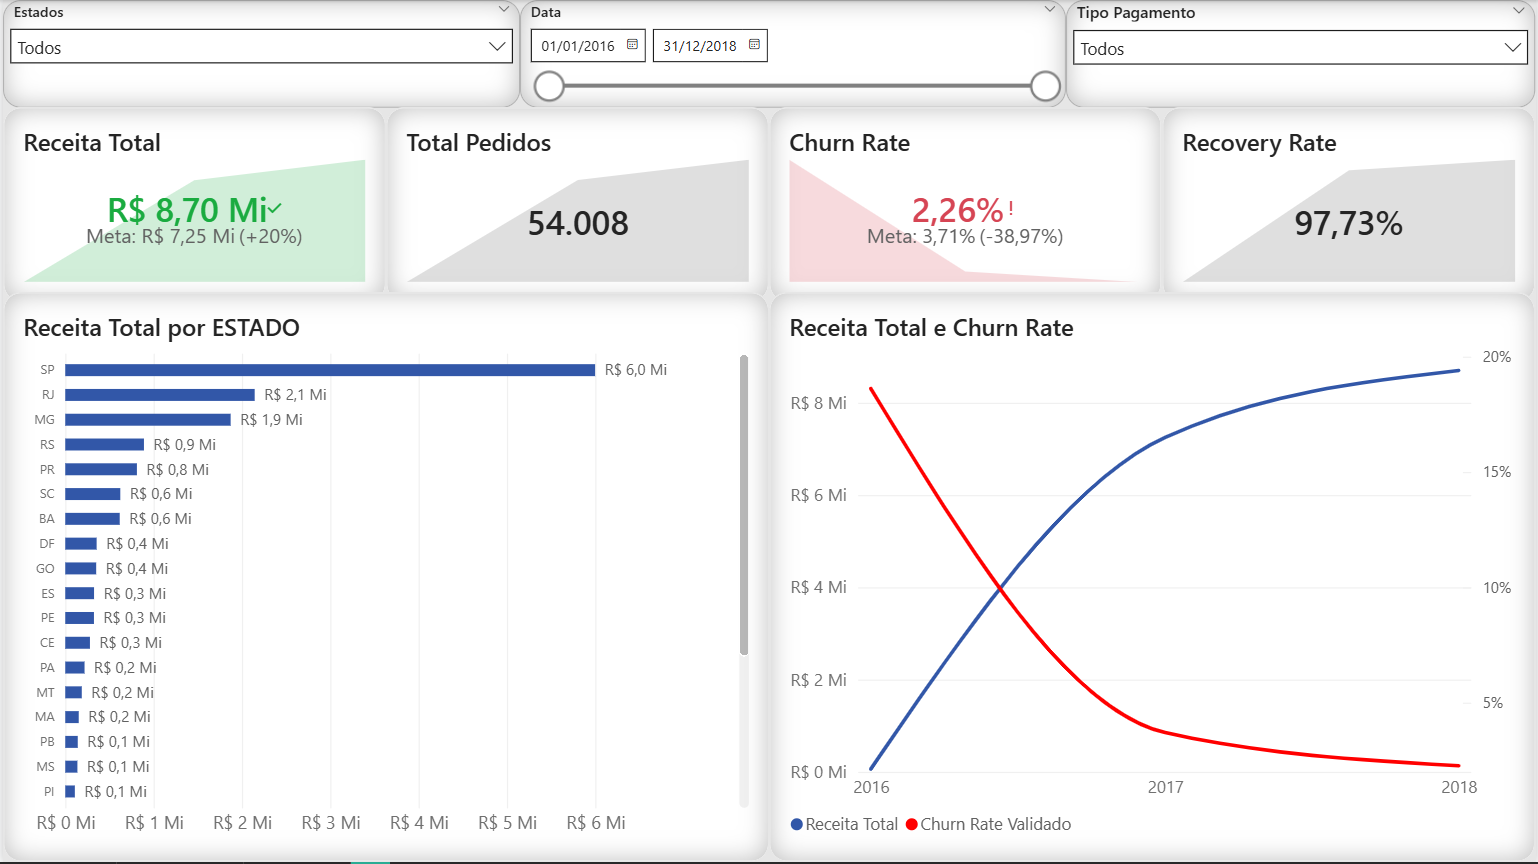

The dashboard page shown, as its layout file describes it:
{"tool":"powerbi","page":{"name":"Visão Executiva","canvas":[1280,720],"ordinal":0},"visuals":[{"type":"slicer","fields":{"Values":["dCalendario.Date"]},"box":[431.8,0,456.1,89.8],"z":0},{"type":"slicer","fields":{"Values":["dLocalidade.ESTADO"]},"box":[0,0,431.8,89.8],"z":1000},{"type":"slicer","fields":{"Values":["dPagamento.TIPO_PAGAMENTO"]},"box":[887.9,0,392.3,89.8],"z":2000},{"type":"kpi","title":"Receita Total","fields":{"Indicator":["_Medidas.Receita Total"],"Goal":["_Medidas.Receita Ano Anterior"],"TrendLine":["dCalendario.Date.Variation.Hierarquia de datas.Ano"]},"box":[0,89.8,319.6,163.4],"z":3000},{"type":"kpi","title":"Total Pedidos","fields":{"TrendLine":["dCalendario.Date.Variation.Hierarquia de datas.Ano"],"Indicator":["_Medidas.Total Pedidos"]},"box":[319.6,89.8,320.5,163.4],"z":4000},{"type":"kpi","title":"Churn Rate","fields":{"Indicator":["_Medidas.Churn Rate Validado"],"Goal":["_Medidas.Churn Rate Ano Anterior"],"TrendLine":["dCalendario.Date.Variation.Hierarquia de datas.Ano"]},"box":[640.1,89.8,327.7,163.4],"z":5000},{"type":"kpi","title":"Recovery Rate","fields":{"Indicator":["_Medidas.Recovery Rate"],"TrendLine":["dCalendario.Date.Variation.Hierarquia de datas.Ano"]},"box":[967.8,89.8,312.4,163.4],"z":6000},{"type":"clusteredBarChart","fields":{"Category":["dLocalidade.ESTADO"],"Y":["_Medidas.Receita Total"]},"box":[0,244.2,640.1,475.8],"z":7000},{"type":"lineChart","title":"Receita Total e Churn Rate ","fields":{"Category":["dCalendario.Date.Variation.Hierarquia de datas.Ano"],"Y":["_Medidas.Receita Total"],"Y2":["_Medidas.Churn Rate Validado"]},"box":[640.1,244.2,640.1,475.8],"z":8000}]}

Visuals, with their boxes in screenshot pixels (x1, y1, x2, y2), scaled from the page's 1280x720 canvas onto the 1538x864 screenshot:
slicer - dCalendario.Date: [519, 0, 1067, 108]
slicer - dLocalidade.ESTADO: [0, 0, 519, 108]
slicer - dPagamento.TIPO_PAGAMENTO: [1067, 0, 1537, 108]
"Receita Total" kpi: [0, 108, 384, 304]
"Total Pedidos" kpi: [384, 108, 769, 304]
"Churn Rate" kpi: [769, 108, 1163, 304]
"Recovery Rate" kpi: [1163, 108, 1537, 304]
clusteredBarChart - dLocalidade.ESTADO x _Medidas.Receita Total: [0, 293, 769, 863]
"Receita Total e Churn Rate " lineChart: [769, 293, 1537, 863]
